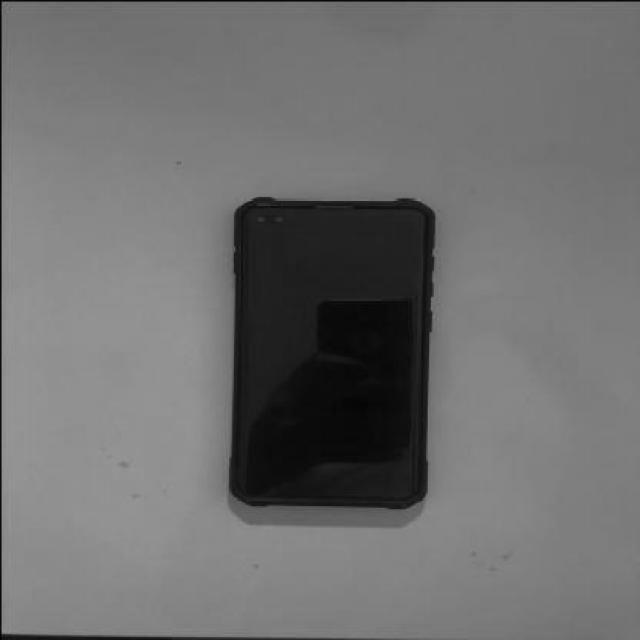fake: (230, 189, 438, 506)
